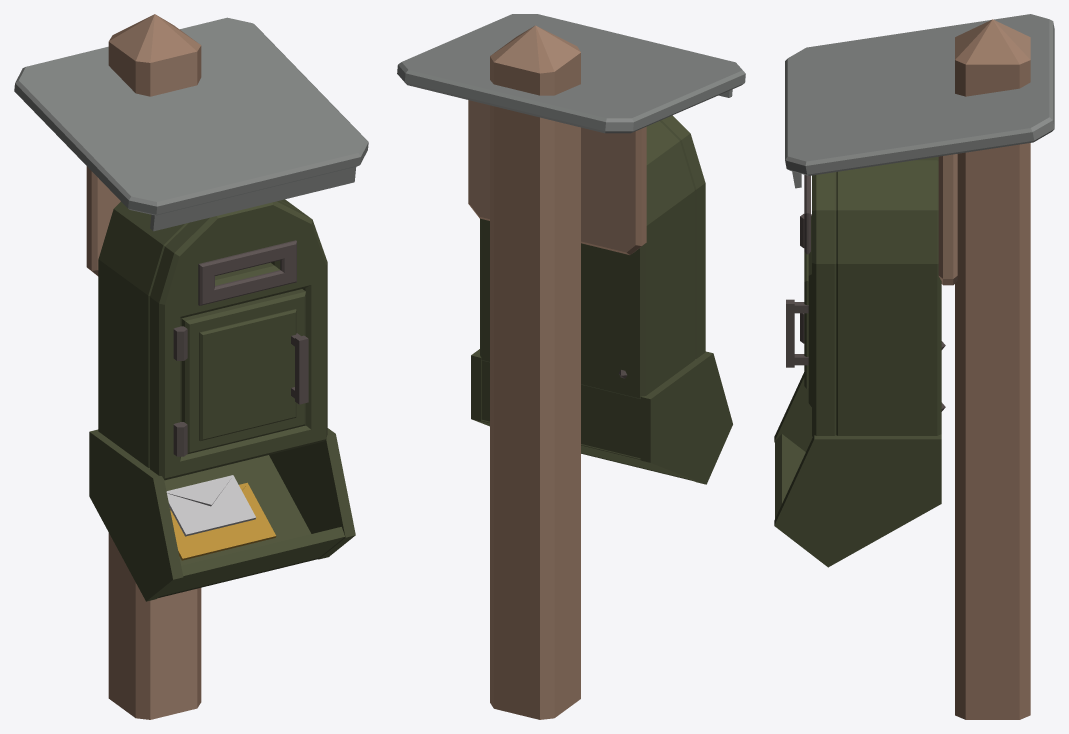
File: self-registration-post-e4636f.glb
3 views of the same model, side by side, from view 1: azimuth 30°, elevation 25°; view 2: azimuth 150°, elevation 25°; view 3: azimuth 270°, elevation 25° (orthographic).
Parts seen in each view (by area): view 1: body, door-panel, envelope-stack; view 2: body; view 3: body, door-panel.
Part boxes in pixels (x1,y1,x2,y2): body: (14, 14, 368, 719); door-panel: (181, 289, 308, 454); envelope-stack: (166, 475, 276, 560); body: (397, 14, 745, 719); body: (774, 14, 1054, 719); door-panel: (786, 216, 811, 406).
Size of the model in its own units: 0.512 by 1.4 by 0.5198.
